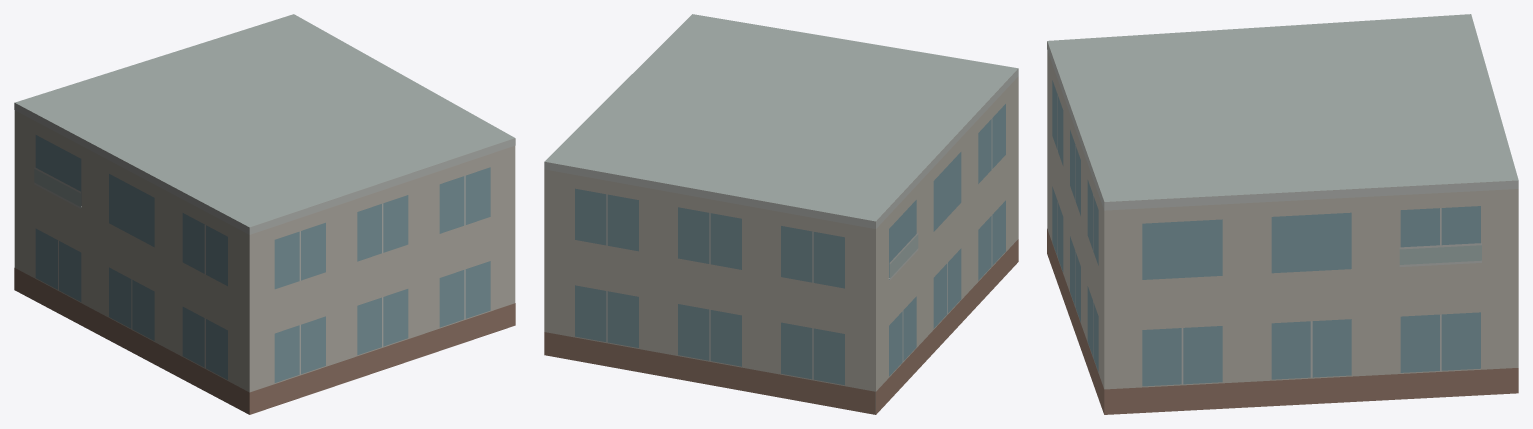
File: survey-upis-32575886.glb
The picture shows the model from 3 angles, left to right: view 1: azimuth 30°, elevation 25°; view 2: azimuth 150°, elevation 25°; view 3: azimuth 270°, elevation 25°; orthographic projection. The views are drawn at different scales.
Parts seen in each view (by area): view 1: survey-upis-32575886.tmp; view 2: survey-upis-32575886.tmp; view 3: survey-upis-32575886.tmp.
Boxes of the visible parts, x1=… form: survey-upis-32575886.tmp: x1=14, y1=14, x2=515, y2=414; survey-upis-32575886.tmp: x1=544, y1=14, x2=1018, y2=414; survey-upis-32575886.tmp: x1=1047, y1=14, x2=1518, y2=414.
Bounding box in the file's own units: 11.57 × 6.1 × 12.26.
